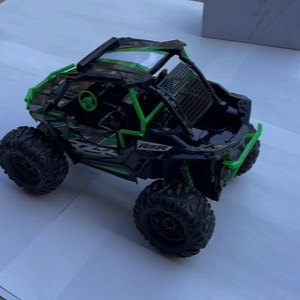polaris: (2, 35, 265, 262)
